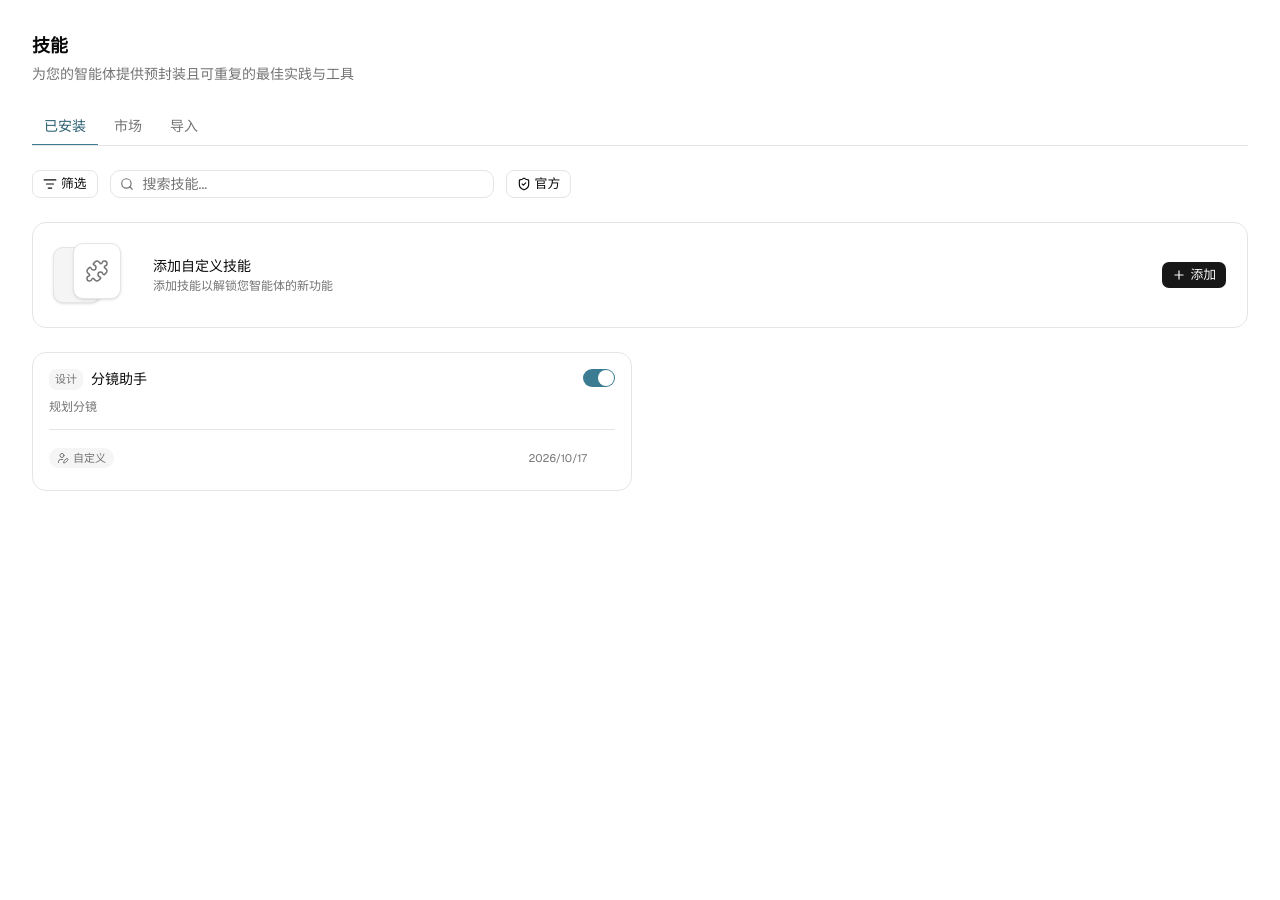
Test: keeps the skill draft open on failure and closes only after successful retry
Click the button "添加": [1194, 275] box left=1161, top=261, right=1227, bottom=289
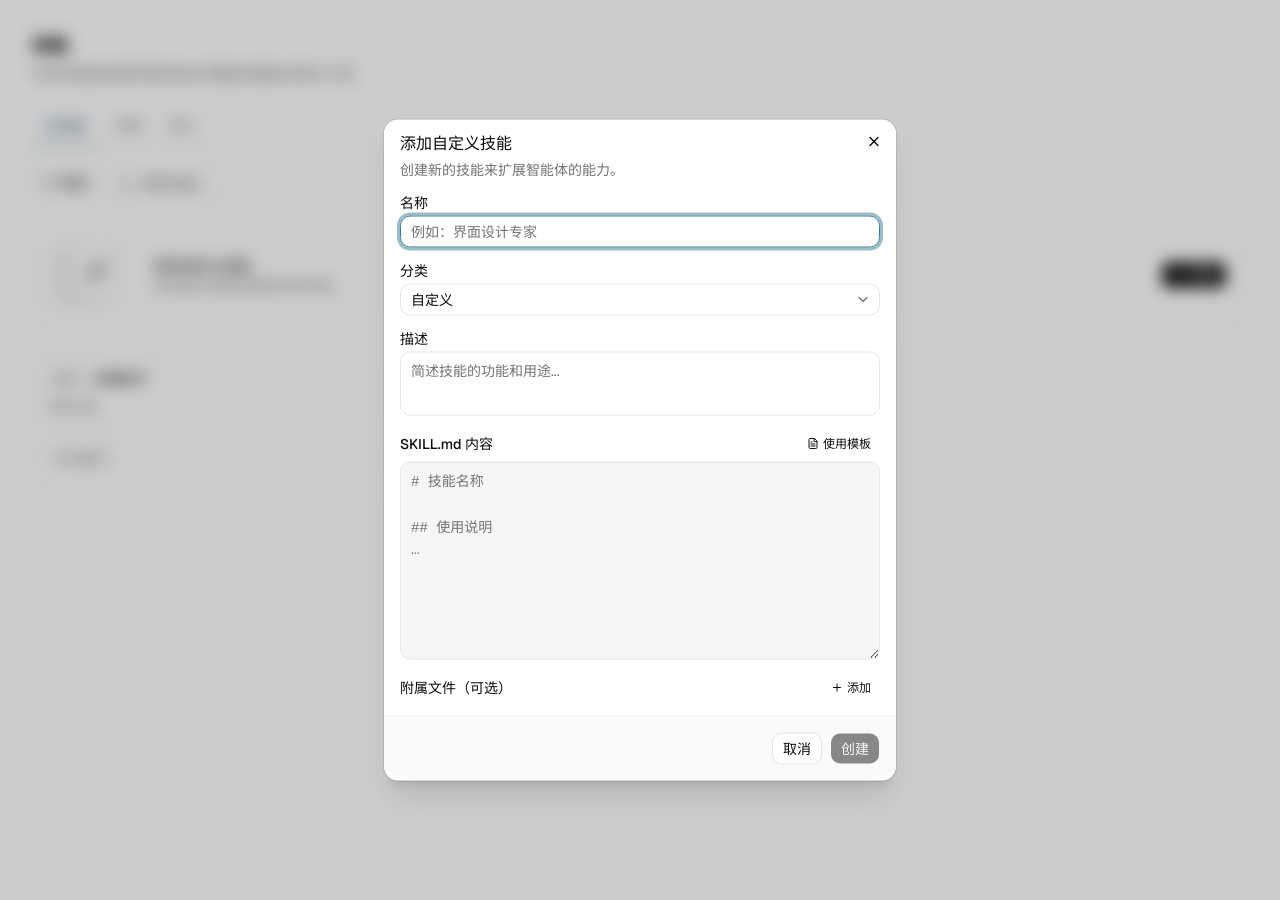
In the field labelled "名称": [640, 232] box left=400, top=216, right=880, bottom=248, type "新分镜助手"
In the text box labelled "描述": [640, 384] box left=401, top=352, right=879, bottom=414, type "帮助规划故事分镜"
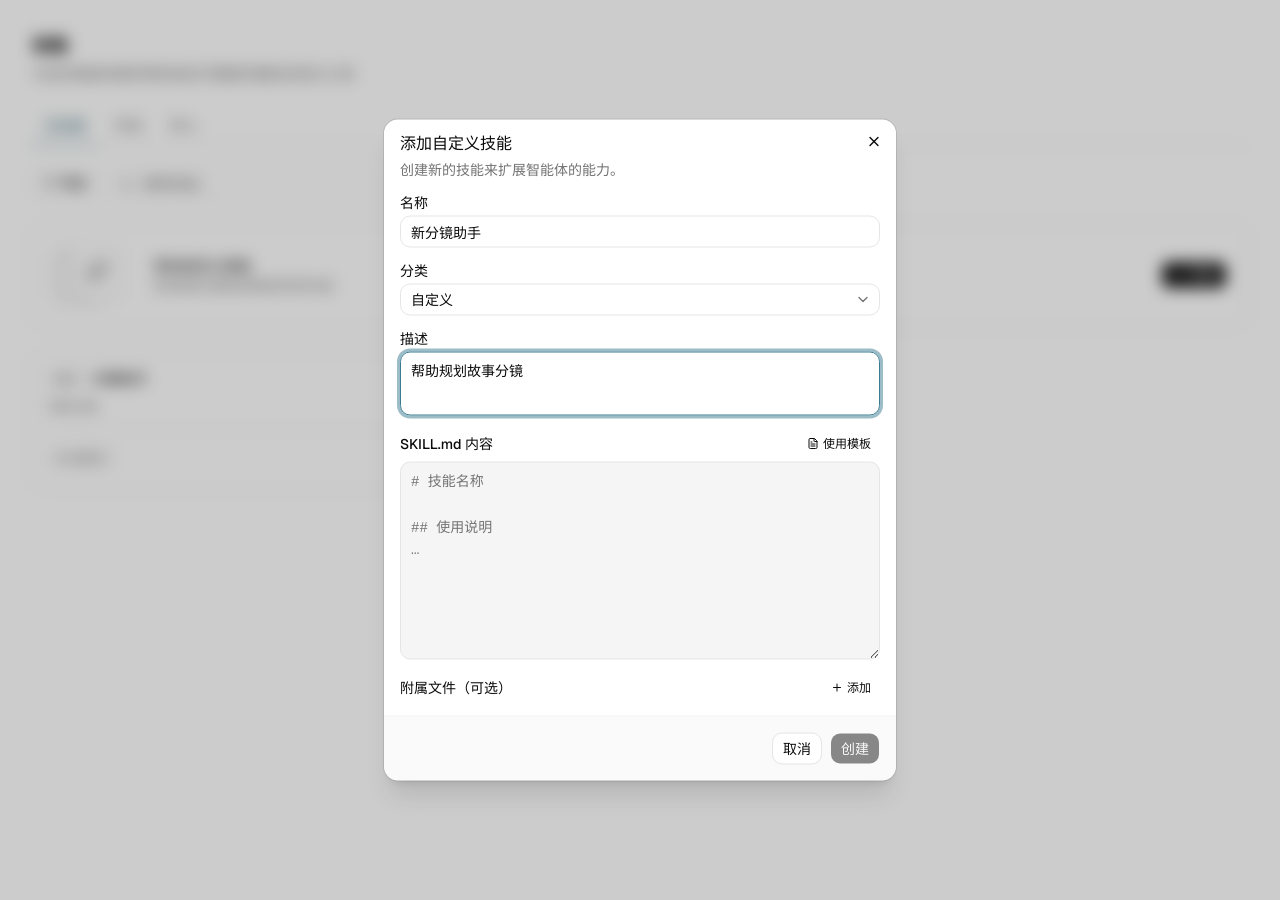
Click the button "使用模板": [839, 444] box left=798, top=432, right=880, bottom=456
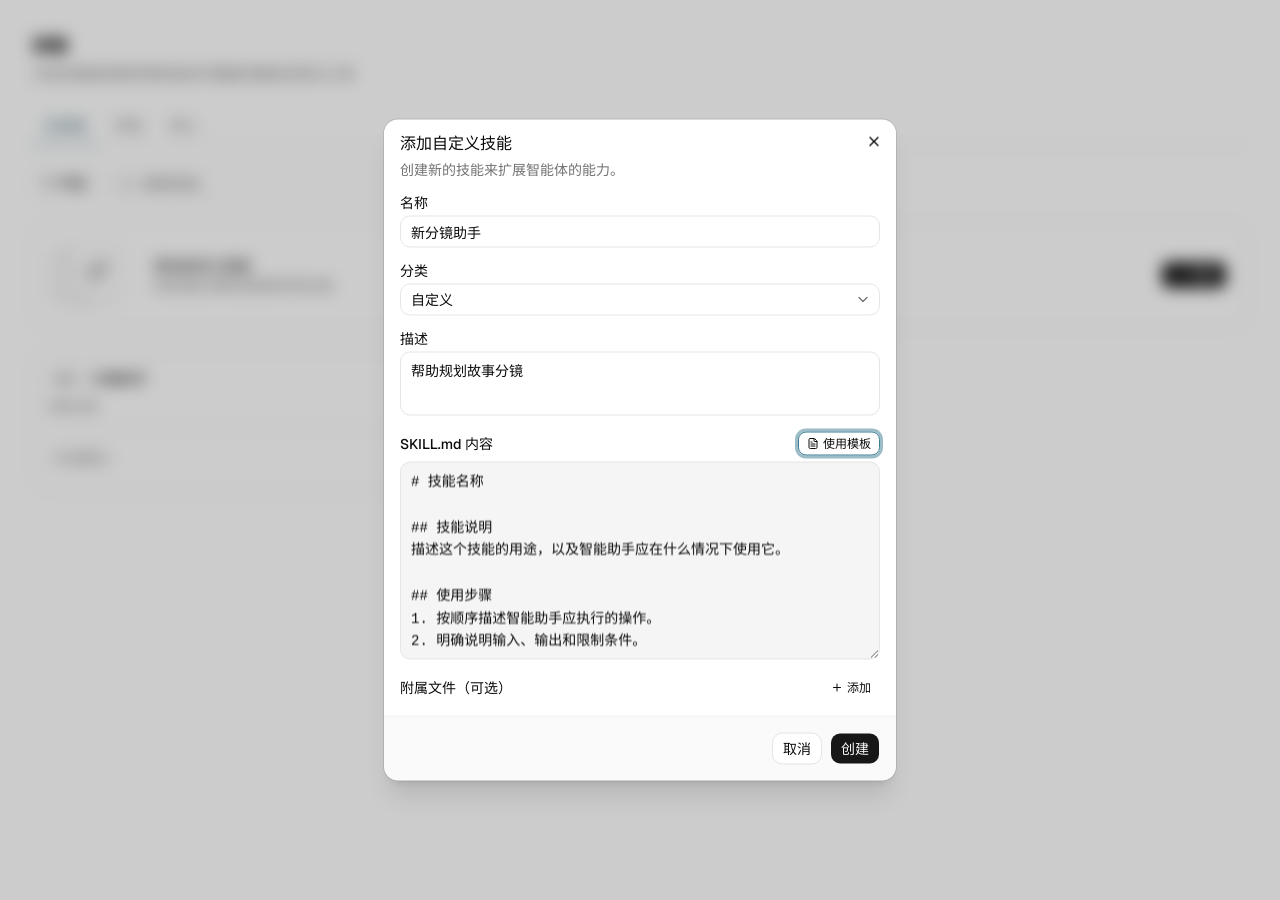
Click the button "创建": [855, 748] box left=830, top=732, right=880, bottom=764
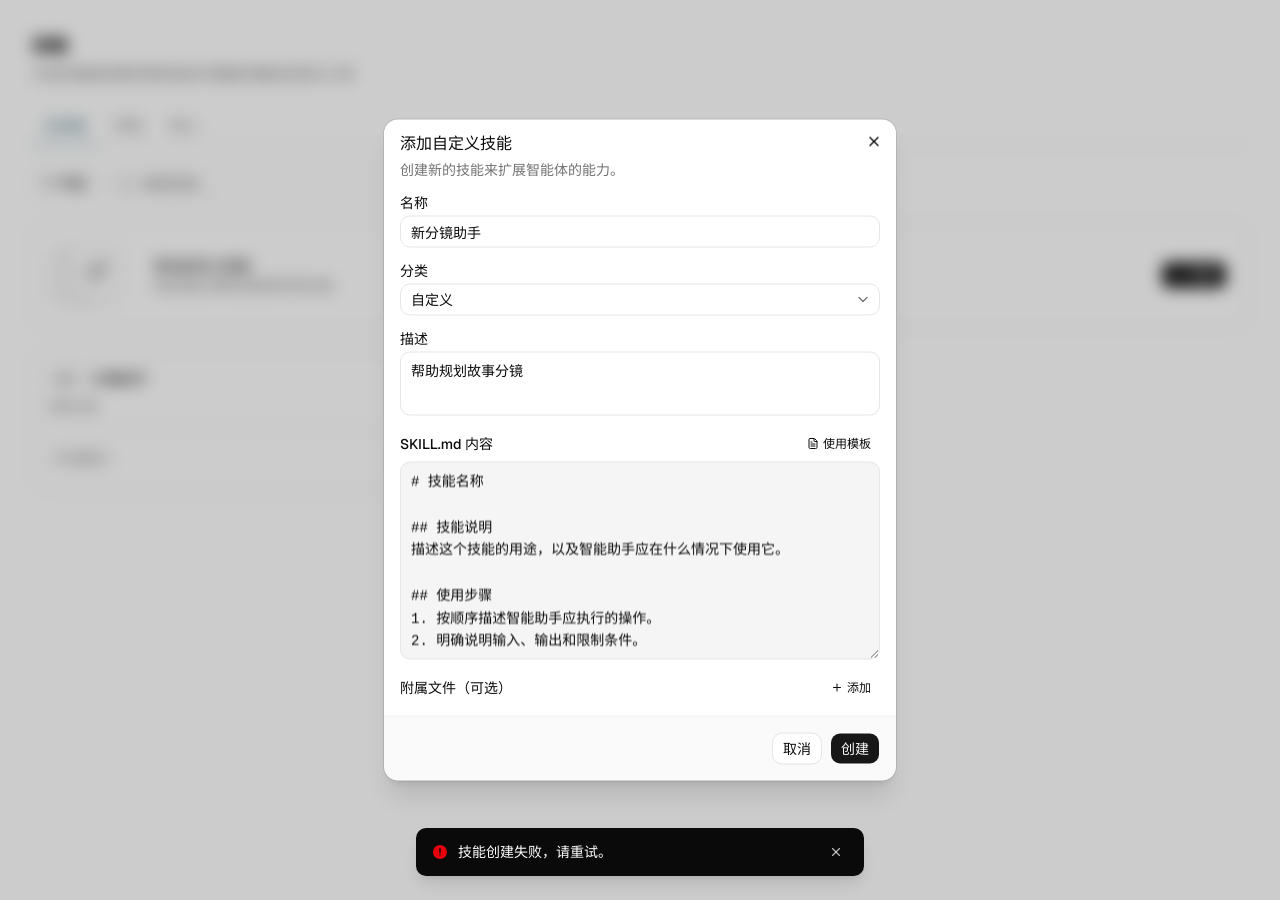
Expected: the dialog "添加自定义技能" is shown, left=384, top=120, right=896, bottom=780
Expected: the message shows "技能创建失败", left=458, top=843, right=612, bottom=861
Click the button named "关闭通知": [836, 852] box left=824, top=840, right=848, bottom=864
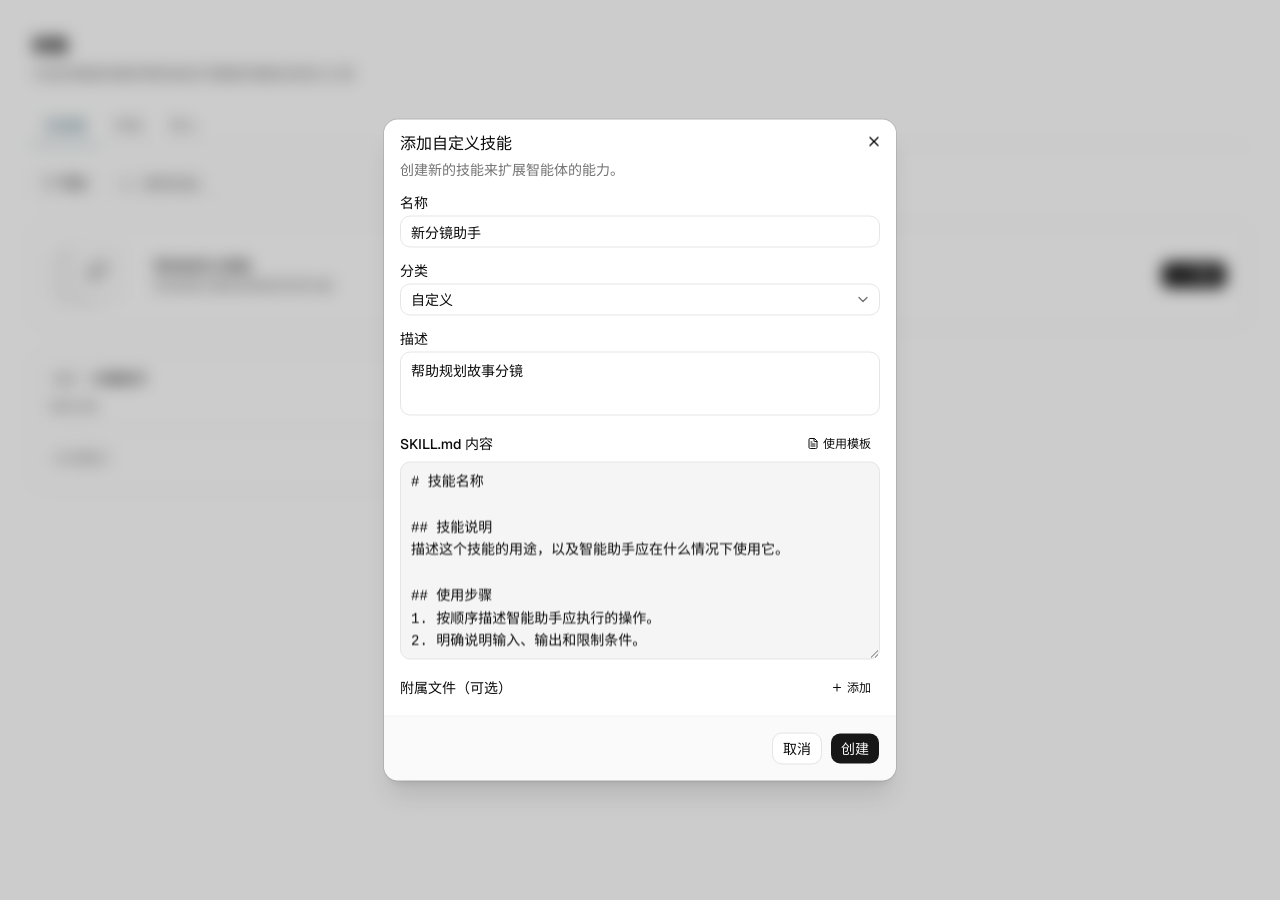
Expected: the dialog "添加自定义技能" is shown, left=384, top=120, right=896, bottom=780
Expected: the message "技能创建失败，请重试。" is gone
Click the button "创建": [855, 748] box left=830, top=732, right=880, bottom=764
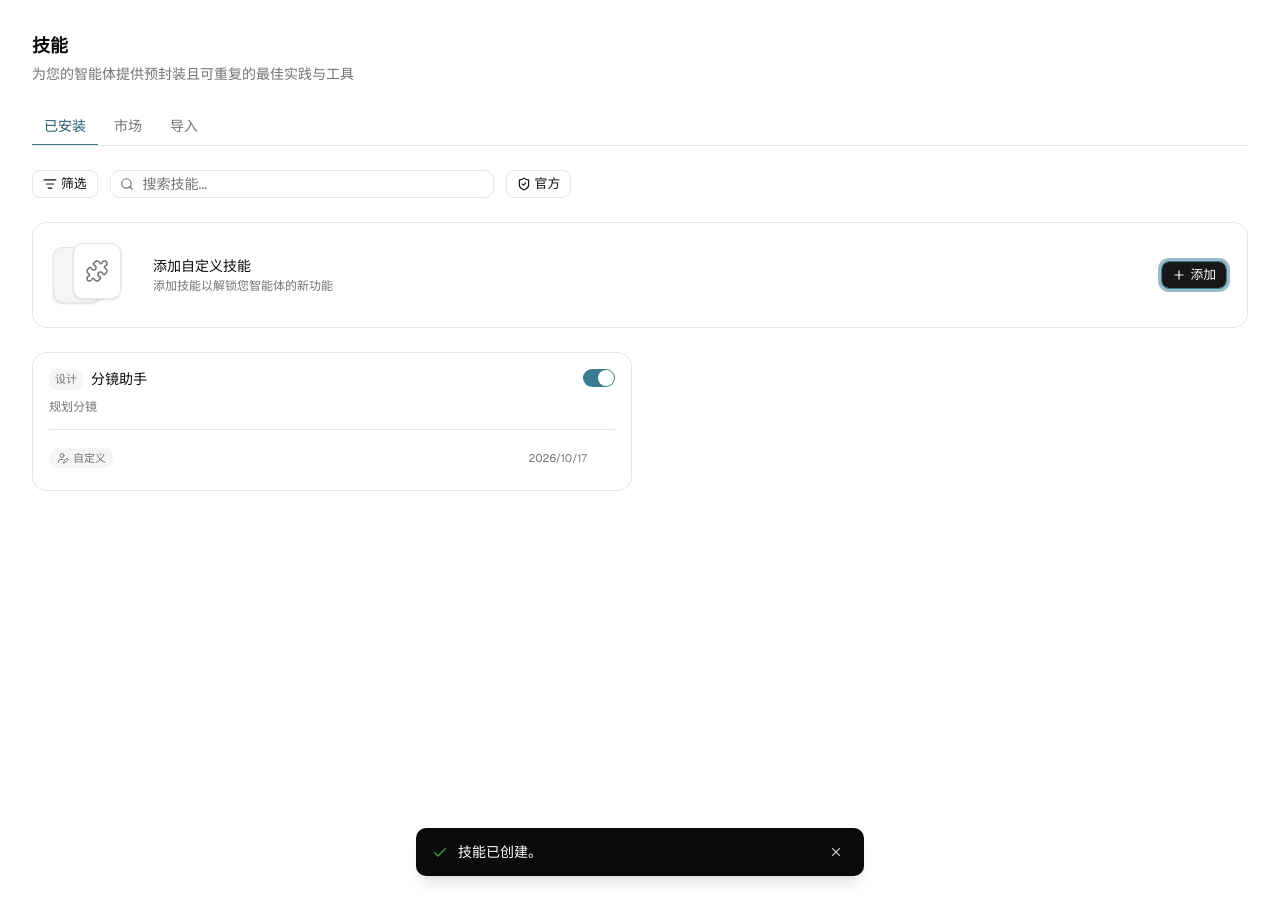
Expected: the dialog is gone
Expected: the message shows "技能已创建", left=458, top=843, right=542, bottom=861
